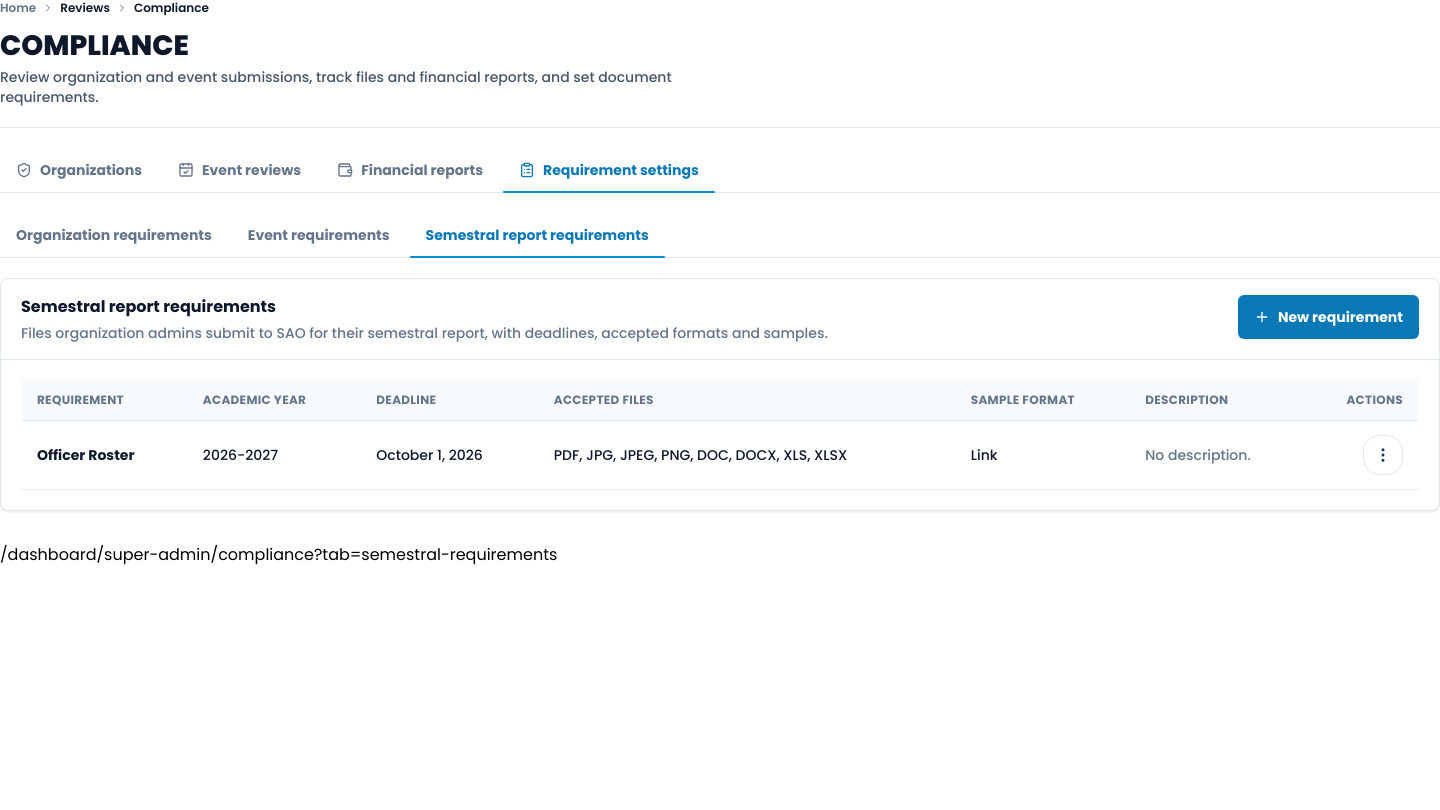
Scenario: SaoCompliancePage › offers a separate catalog for SAO semestral report requirements
Expected: the heading "Semestral report requirements" is shown, [21, 295, 276, 318]
Click the button "New requirement" at (1328, 317), box [1238, 295, 1419, 339]
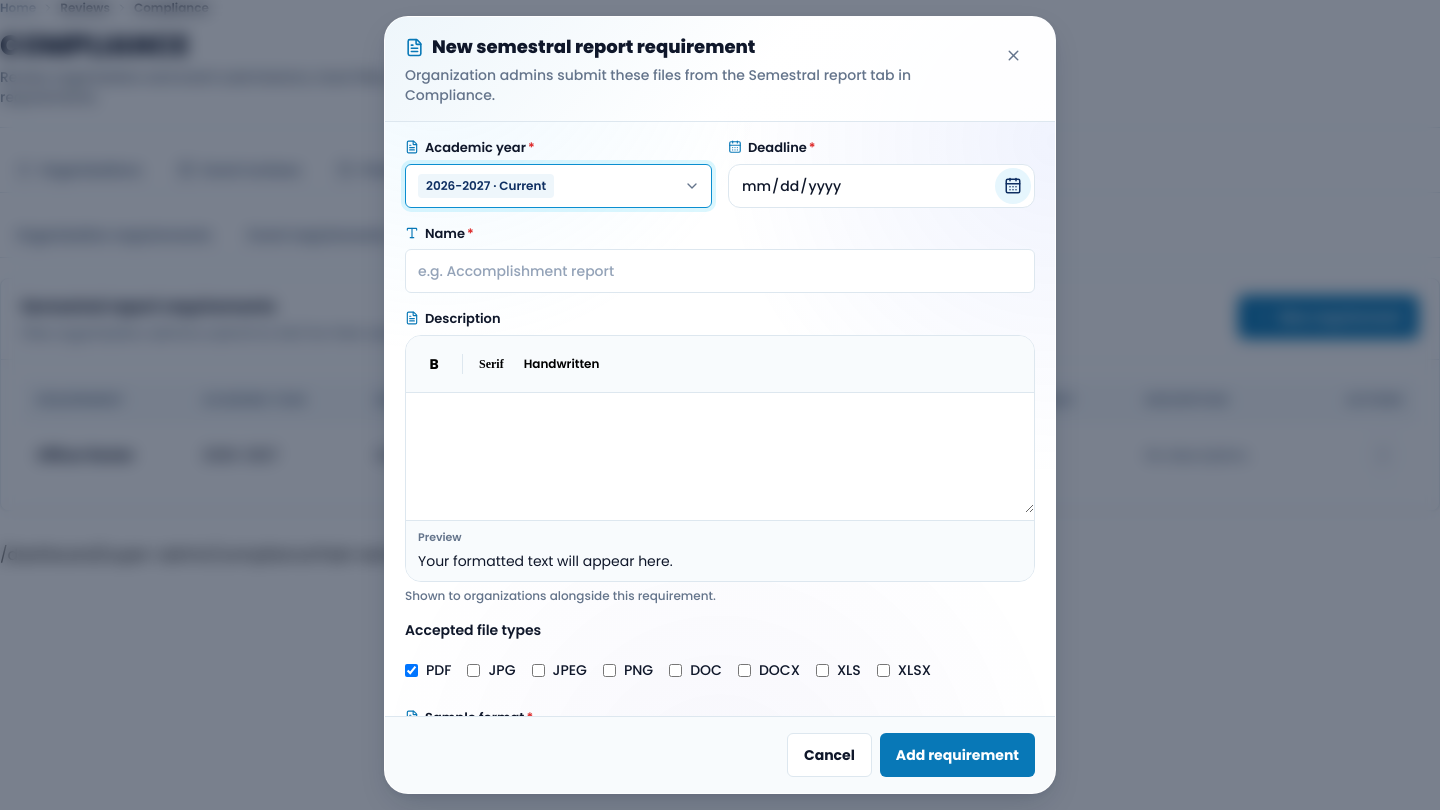
Expected: the dialog "New semestral report requirement" is shown, [384, 16, 1056, 794]
